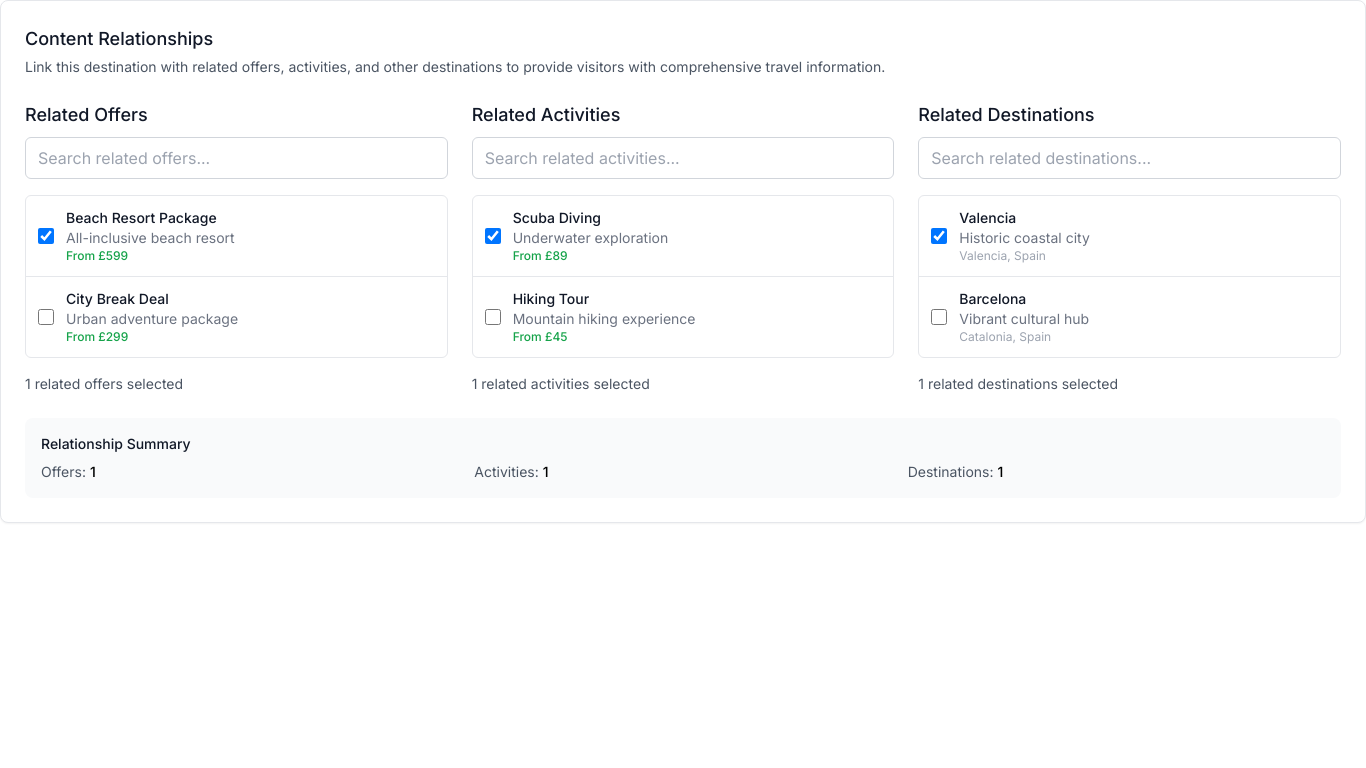
Test case: RelationshipManager › Search Functionality › filters activities based on search term
The image size is (1366, 768).
Expected: the text "Scuba Diving" is shown, [513,209,601,226]
Expected: the text "Hiking Tour" is shown, [513,290,589,307]
Search for "diving"
Type "diving" into the field with placeholder "Search related activities...".
click(683, 158); type("diving")  # box [472,137,894,179]
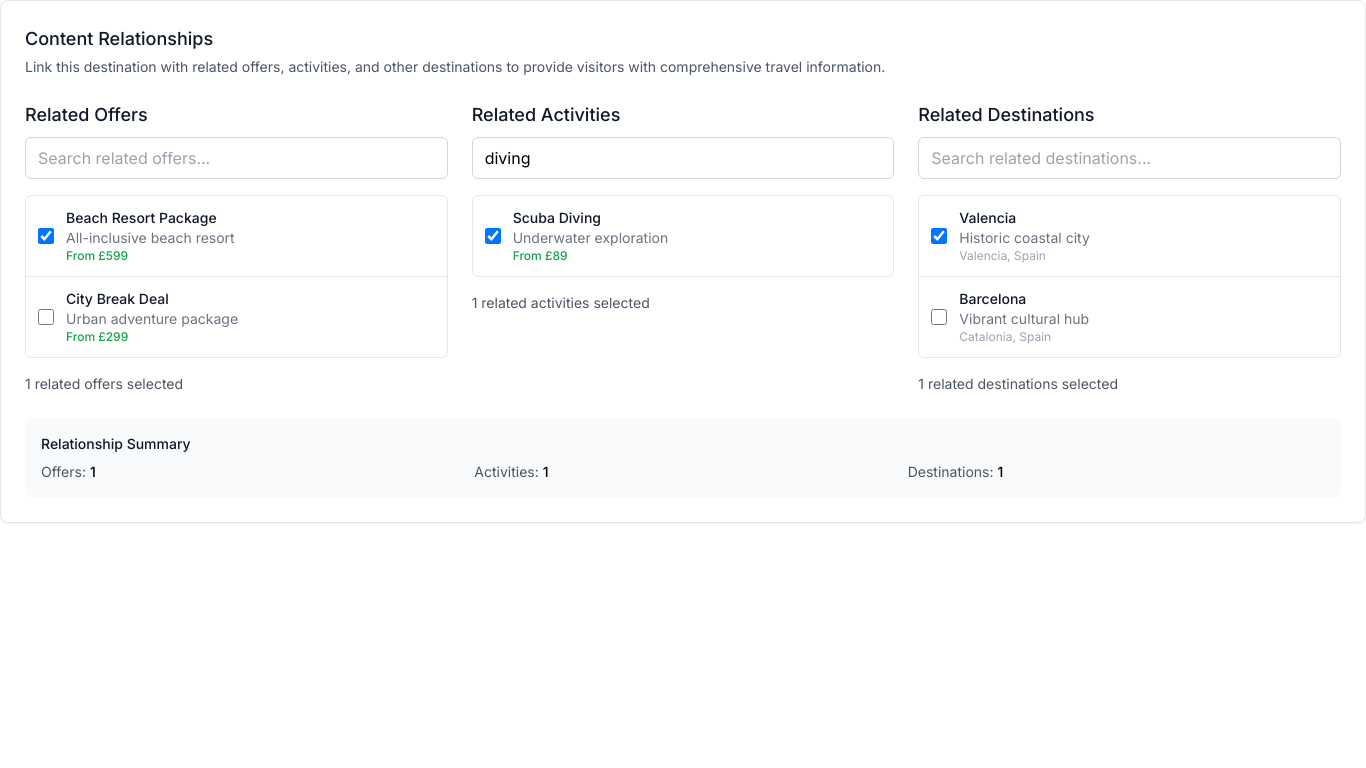
Expected: the text "Scuba Diving" is shown, [513,209,601,226]
Expected: the text "Hiking Tour" is gone
